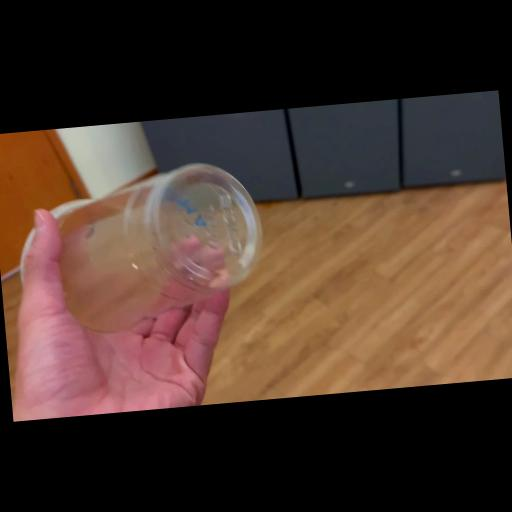lp_plastic_cup: (19, 162, 265, 340)
